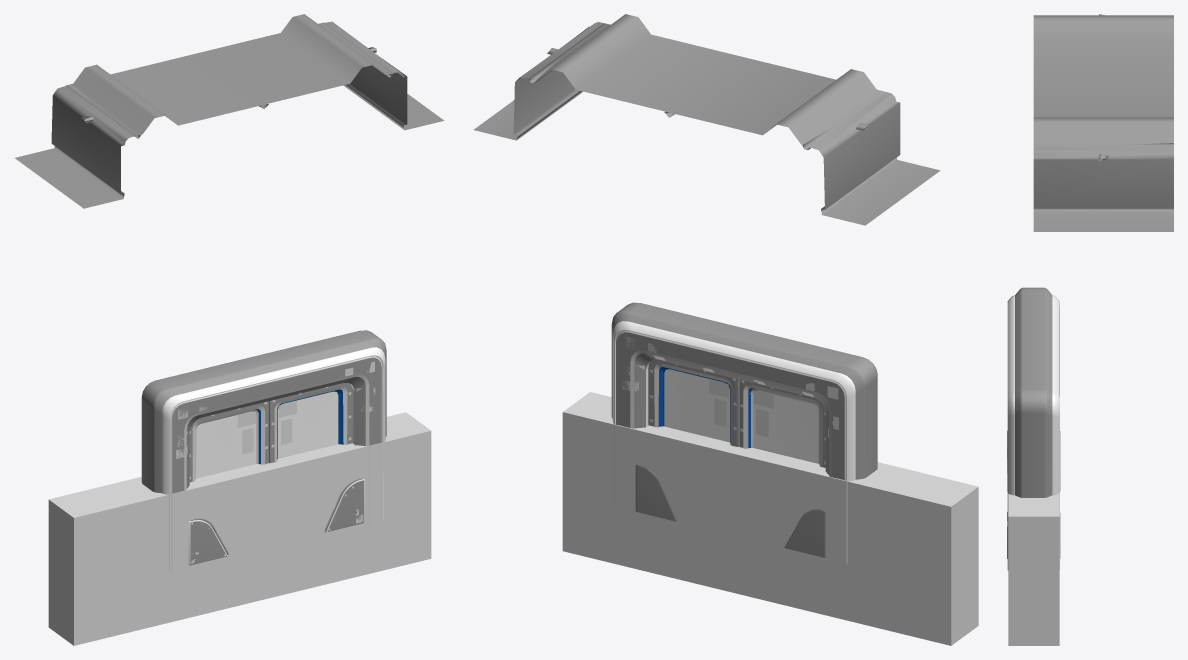
The model's file is Doortest.fbx.
3 views of the same model, side by side, from view 1: azimuth 30°, elevation 25°; view 2: azimuth 150°, elevation 25°; view 3: azimuth 270°, elevation 25° (orthographic). The views are drawn at different scales.
Visible parts, largest first — view 1: Cutter.007, Plane.021, Cube.051, Cube.076, Cube.075, Cube.056, Cube.063, StylizedHardSurface_Panels_002.014, Cube.073, Cube.061; view 2: Cutter.007, Plane.021, Cube.051, Cube.076, Cube.075, Cube.056, Cube.063, StylizedHardSurface_Panels_002.014, Cube.073, Cube.125; view 3: Plane.021, Cube.051, Cutter.007, Cube.056.
Part boxes in pixels (x1,y1,x2,y2): Cutter.007: [48, 412, 431, 645]; Plane.021: [15, 14, 444, 208]; Cube.051: [141, 330, 386, 493]; Cube.076: [269, 383, 352, 463]; Cube.075: [189, 401, 268, 482]; Cube.056: [162, 347, 385, 571]; Cube.063: [189, 477, 363, 565]; StylizedHardSurface_Panels_002.014: [170, 356, 382, 571]; Cube.073: [271, 386, 351, 462]; Cube.061: [192, 405, 265, 481]; Cutter.007: [562, 392, 978, 645]; Plane.021: [474, 14, 940, 225]; Cube.051: [611, 302, 877, 480]; Cube.076: [648, 359, 739, 446]; Cube.075: [739, 380, 825, 467]; Cube.056: [612, 321, 855, 564]; Cube.063: [635, 464, 825, 557]; StylizedHardSurface_Panels_002.014: [616, 330, 846, 480]; Cube.073: [650, 363, 736, 445]; Cube.125: [743, 384, 822, 466]; Plane.021: [1033, 14, 1173, 231]; Cube.051: [1015, 287, 1052, 497]; Cutter.007: [1008, 493, 1059, 645]; Cube.056: [1007, 295, 1059, 570].
Size of the model in its own units: 637 by 788 by 238.
